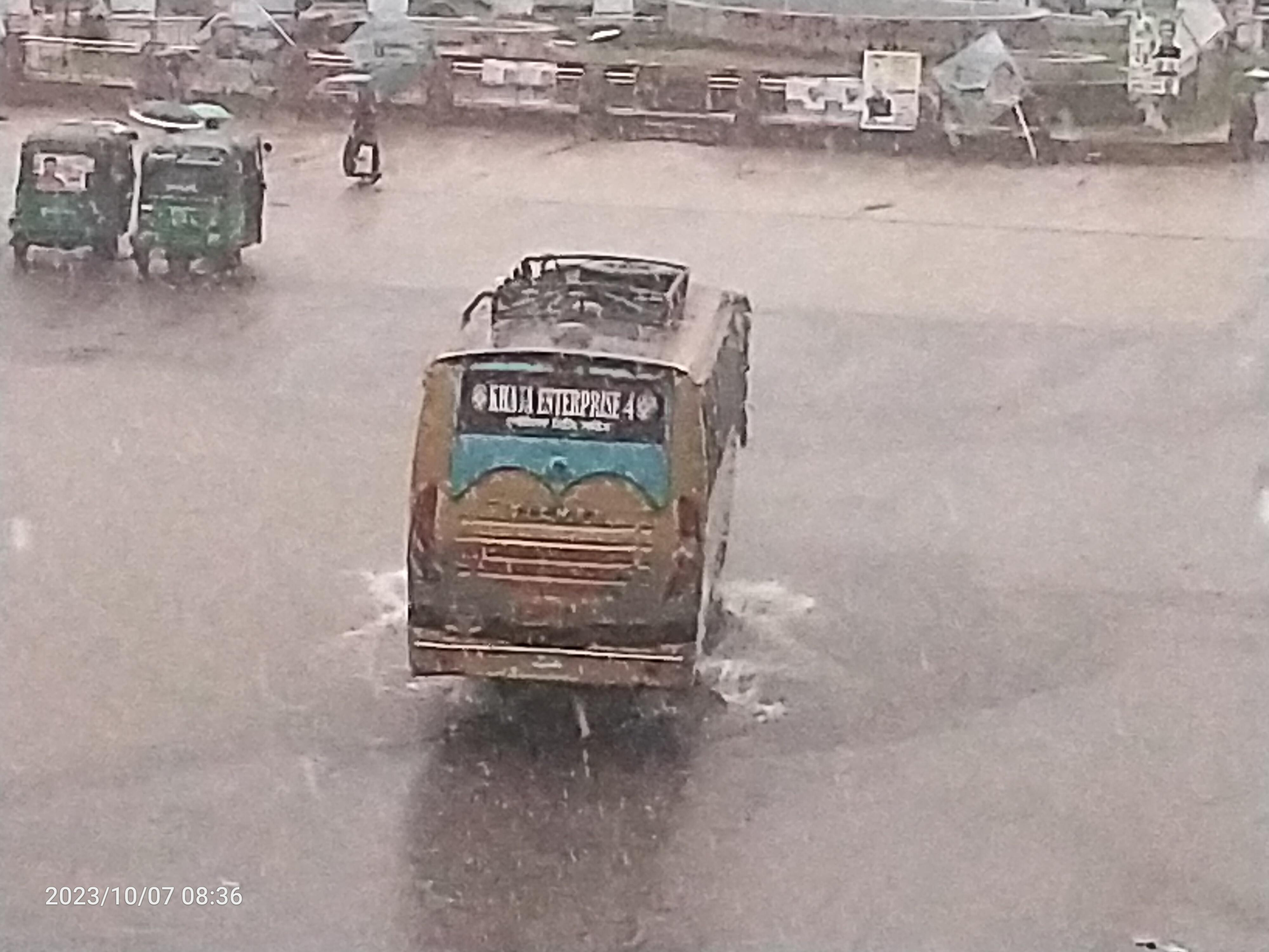Bus: (346, 198, 867, 770)
